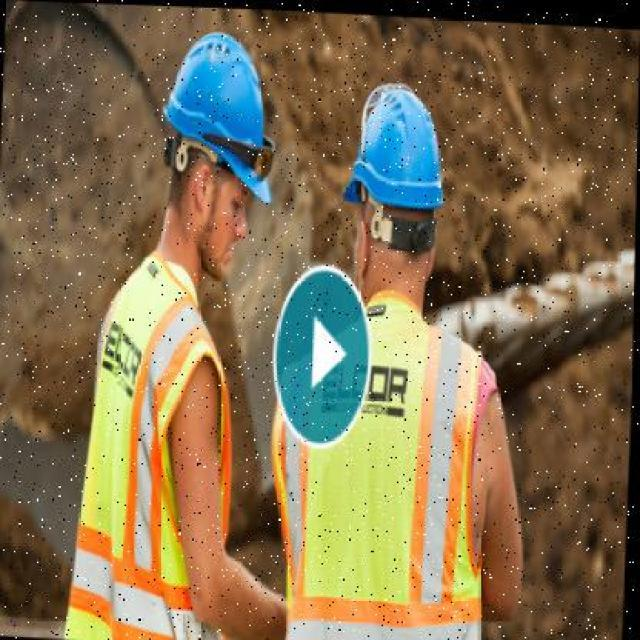helmet: (157, 25, 281, 204), (339, 83, 449, 226)
vest: (279, 286, 496, 638), (75, 253, 239, 639)
